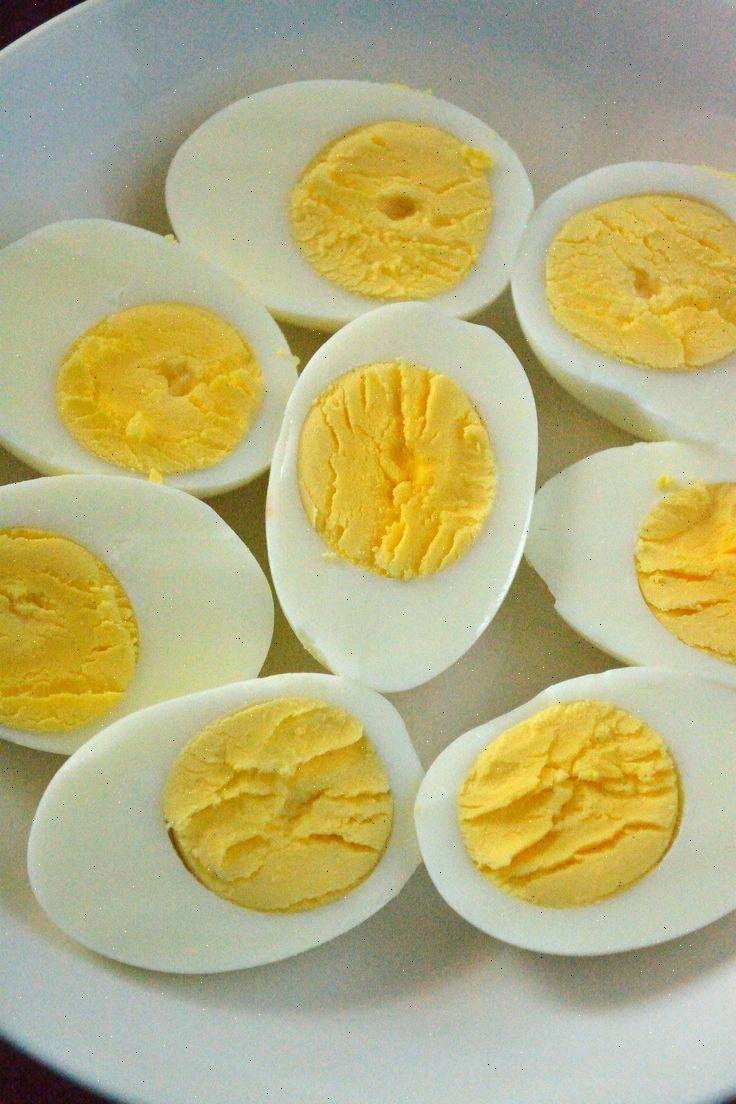eggs: (23, 103, 736, 975)
